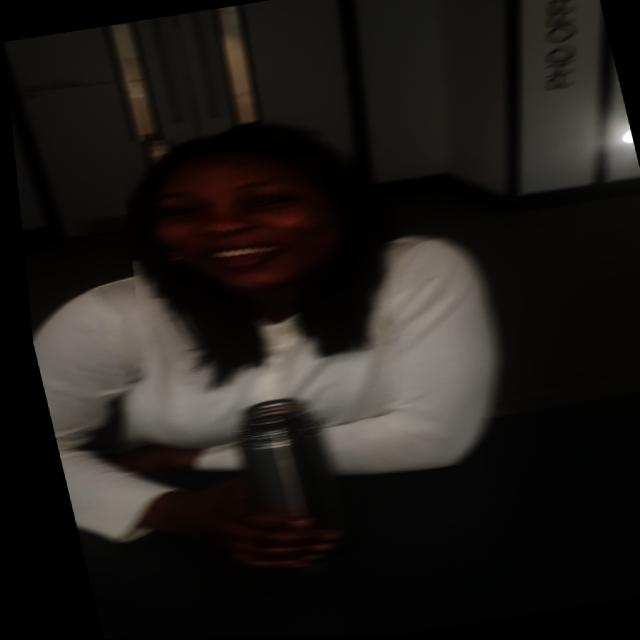happy: (100, 115, 372, 320)
